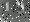person: (18, 2, 25, 15), (8, 3, 14, 12)
